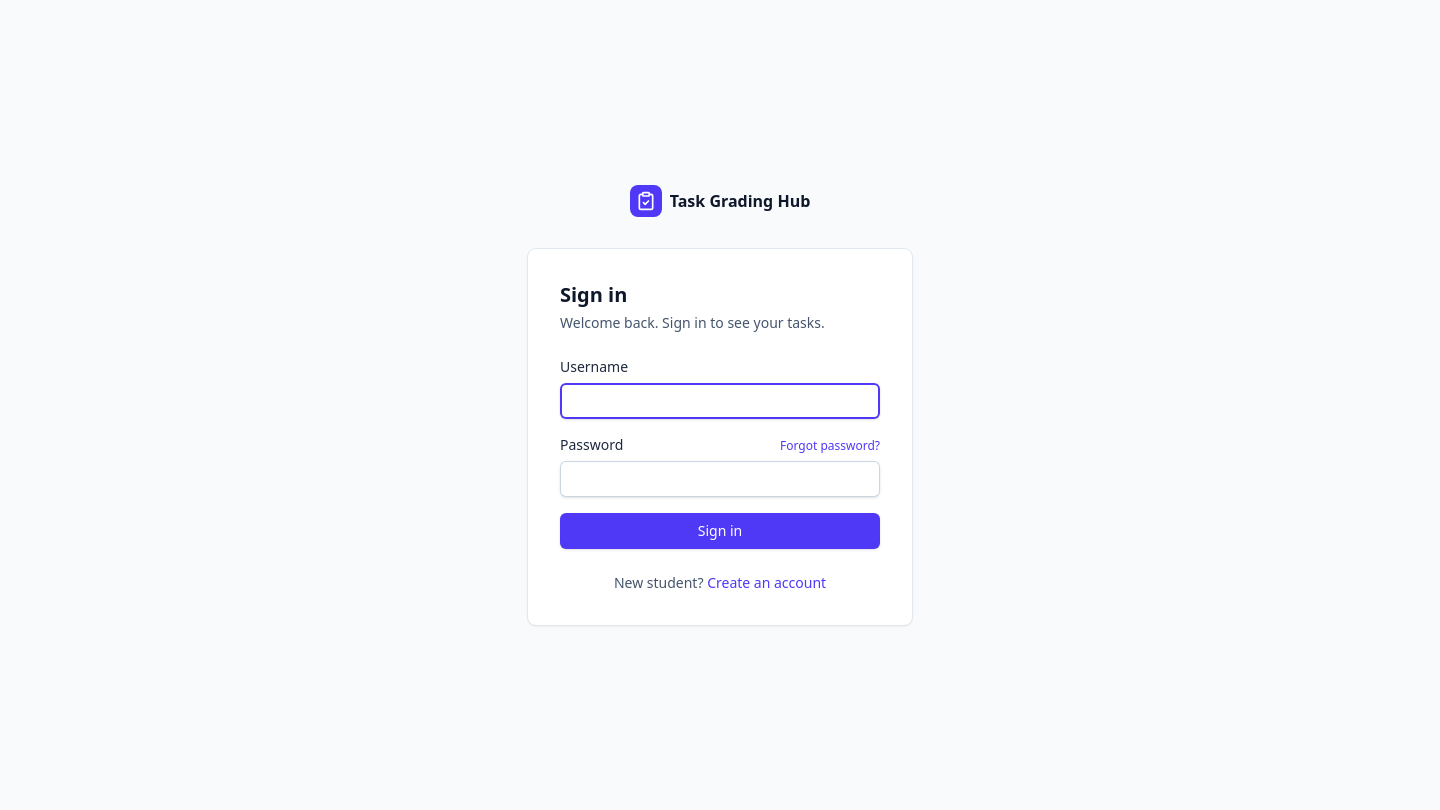
Scenario: sign in › sends a signed-out visitor to the sign-in page, then back where they were going
Check: the heading "Sign in" is shown, box [560, 281, 627, 308]
In the field labelled "Username": (720, 401) [560, 383, 880, 419], type "linh"
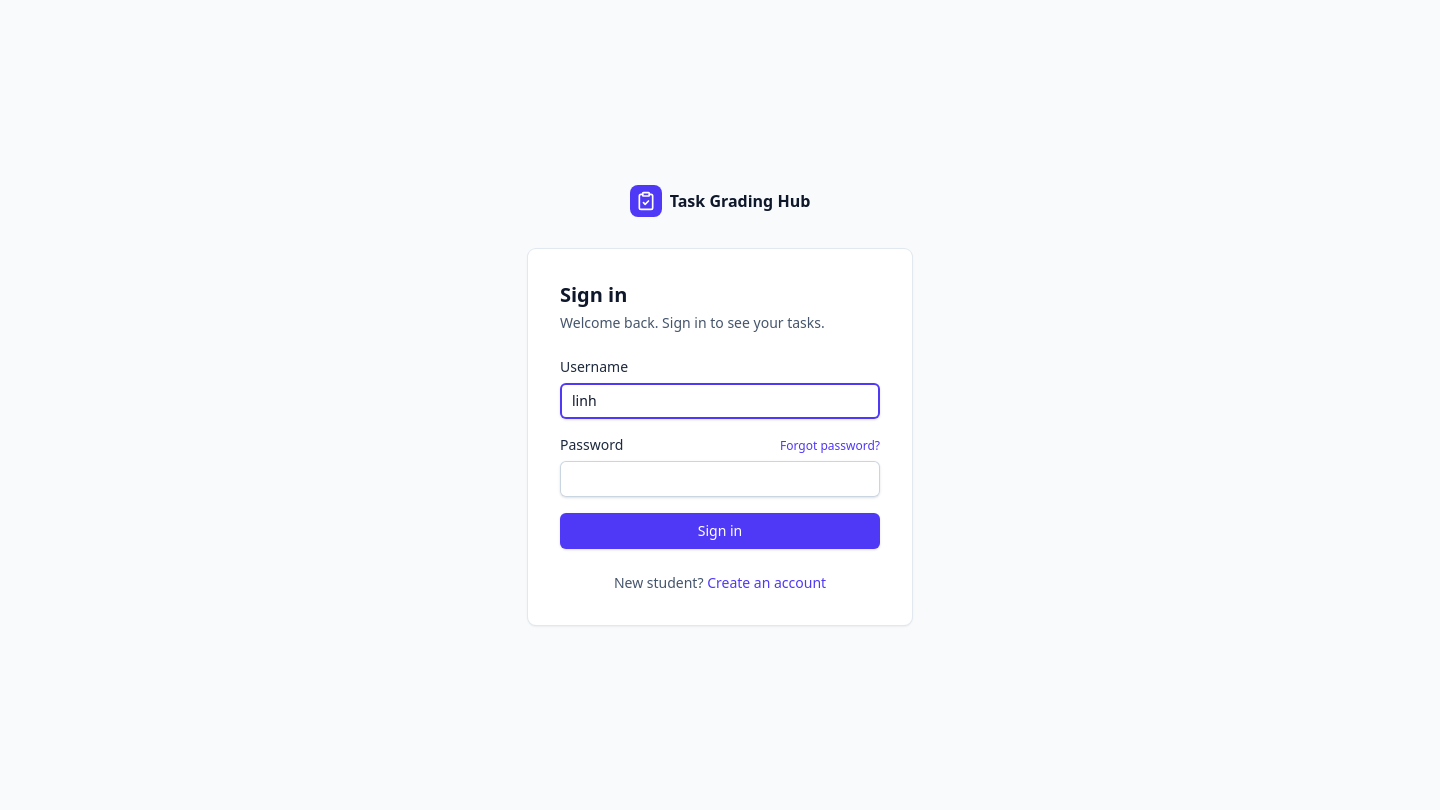
In the password field labelled "Password": (720, 479) [560, 461, 880, 497], type "SecurePass123"
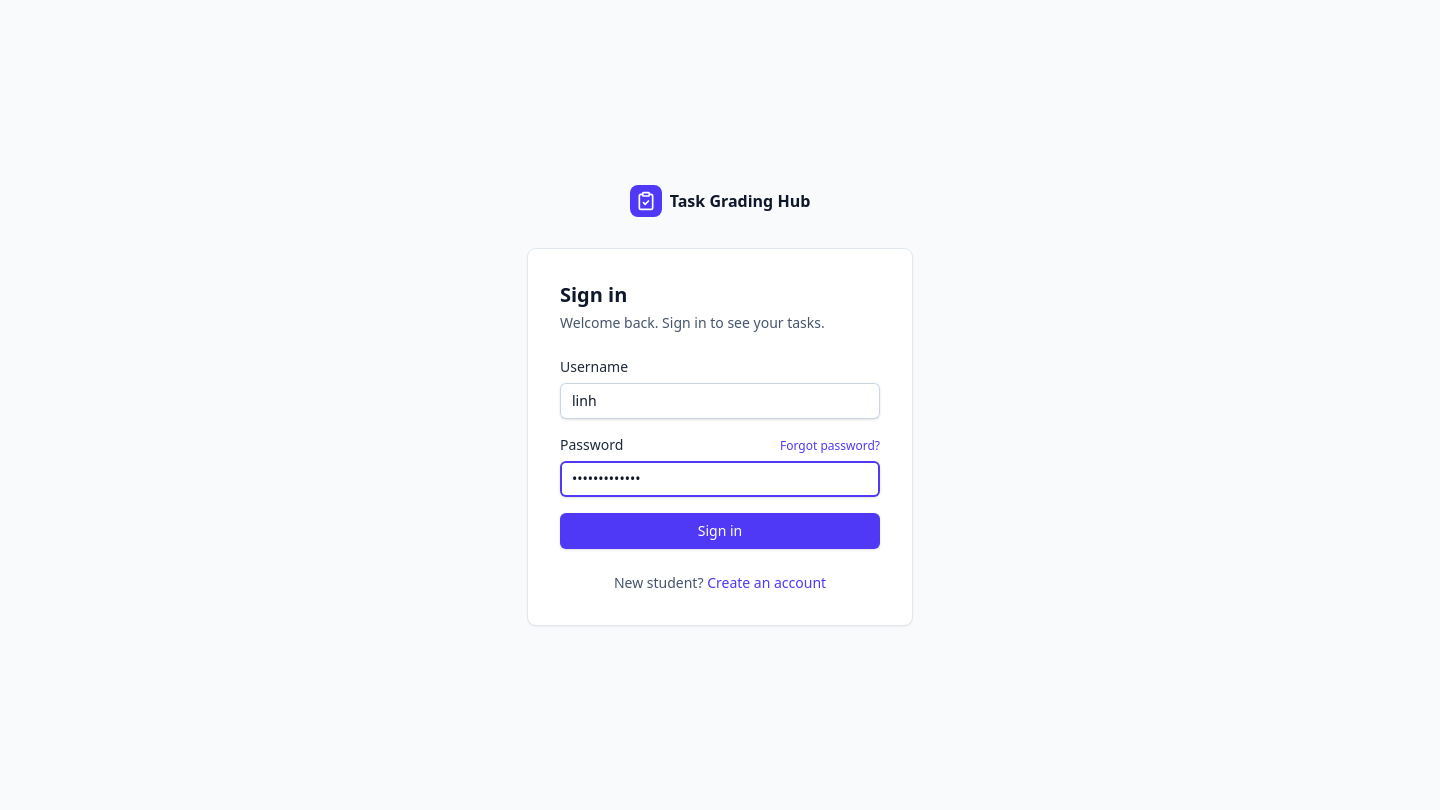
Click the button "Sign in": (720, 531) [560, 513, 880, 549]
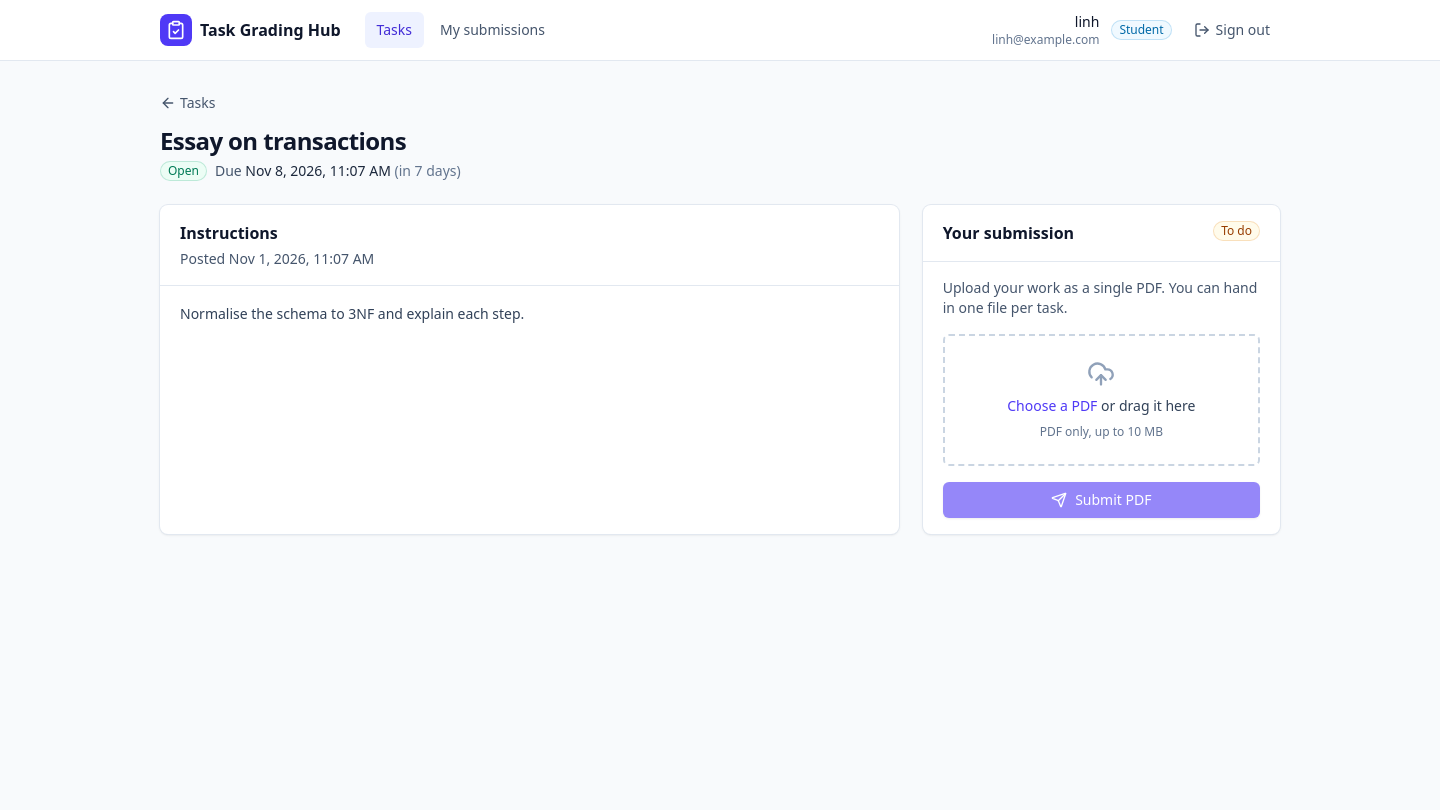
Check: the heading "Essay on transactions" is shown, box [160, 124, 406, 157]
Check: the text "linh" is shown, box [1075, 12, 1099, 31]
